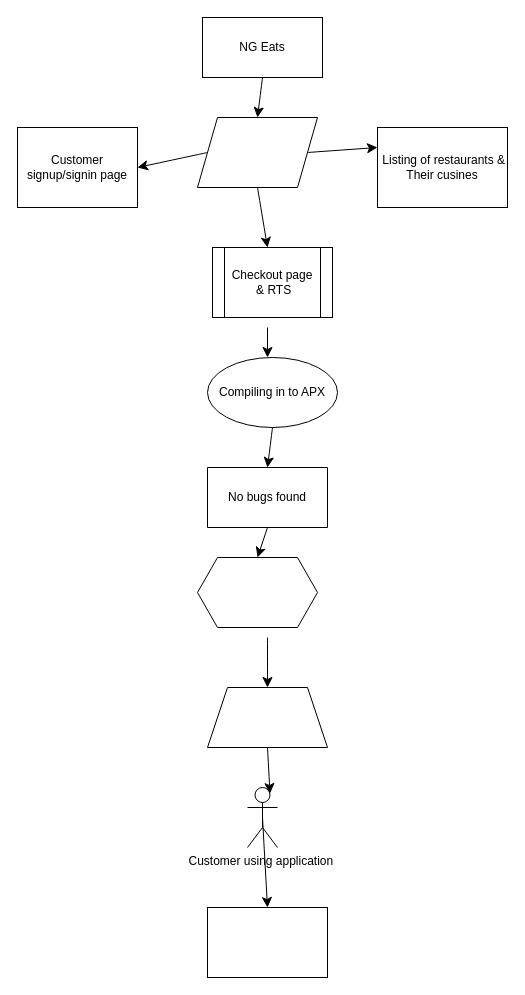
This 525x995 diagram has some shape labels left out. Here are the shapes that lost their labels. From the top down, the centre of each, then its label:
At (x=257, y=152): "Design UI/UX".
At (x=257, y=592): "Writing permission For Deployment".
At (x=267, y=717): "Releasing into appstore".
At (x=267, y=942): "No Feedback Recieved".
